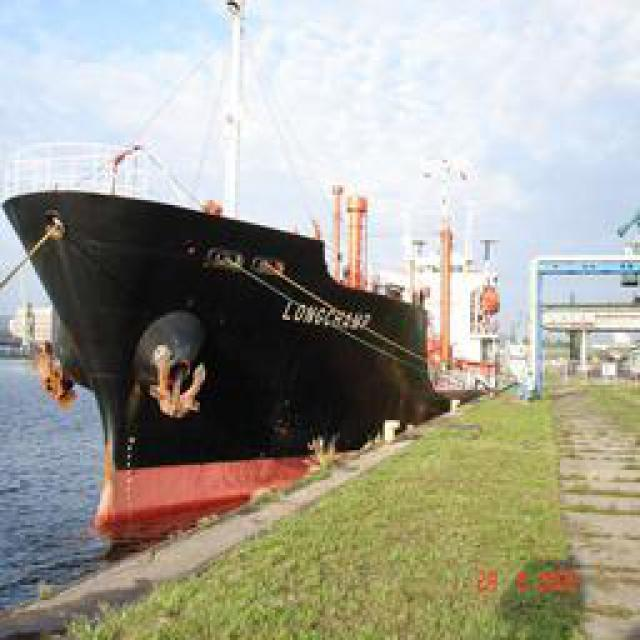Ship: (6, 136, 479, 559)
